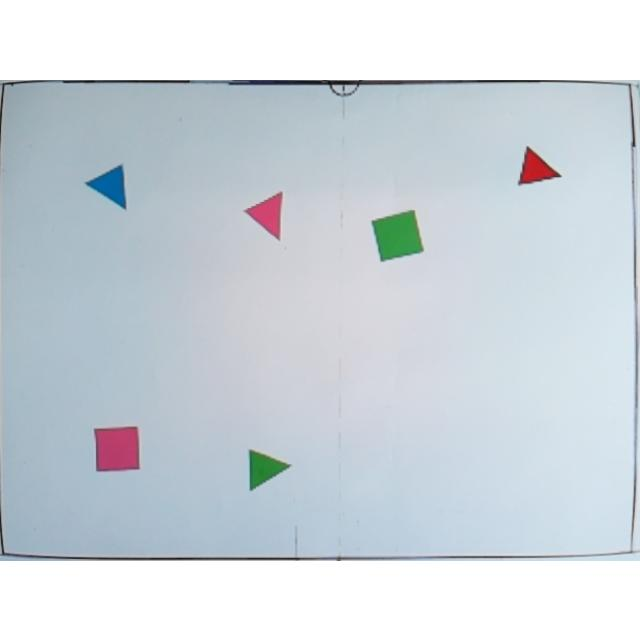blueTriangle: (85, 162, 132, 212)
greenSquare: (372, 208, 424, 262)
greenTriangle: (248, 447, 294, 489)
pinkSquare: (91, 424, 142, 472)
pinkTriangle: (242, 188, 286, 242)
redTriangle: (516, 143, 564, 185)
